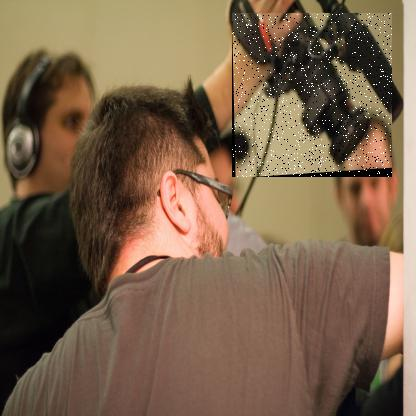Camera: (233, 14, 394, 179)
